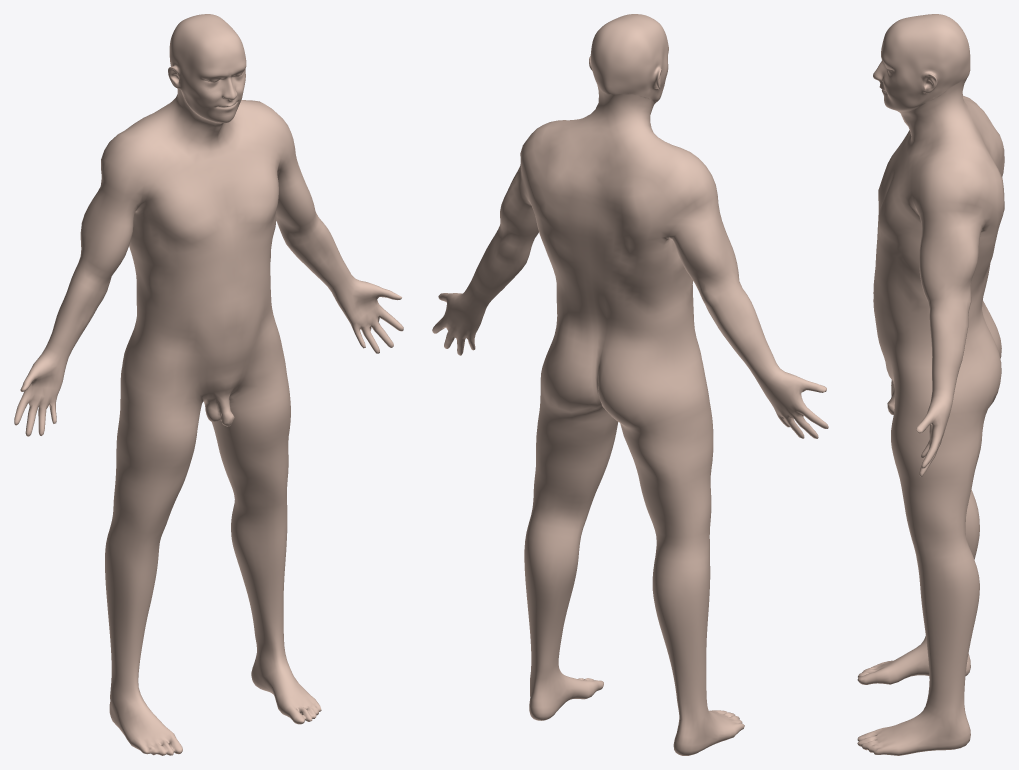
File: VHM_Skin_Low.glb
The picture shows the model from 3 angles, left to right: view 1: azimuth 30°, elevation 25°; view 2: azimuth 150°, elevation 25°; view 3: azimuth 270°, elevation 25°; orthographic projection.
Parts seen in each view (by area): view 1: VHM_Skin_Low; view 2: VHM_Skin_Low; view 3: VHM_Skin_Low.
Part boxes in pixels (x1=…): VHM_Skin_Low: x1=14, y1=14, x2=403, y2=755; VHM_Skin_Low: x1=432, y1=14, x2=828, y2=755; VHM_Skin_Low: x1=857, y1=14, x2=1004, y2=755.
Size of the model in its own units: 1.32 by 2.25 by 0.432.
